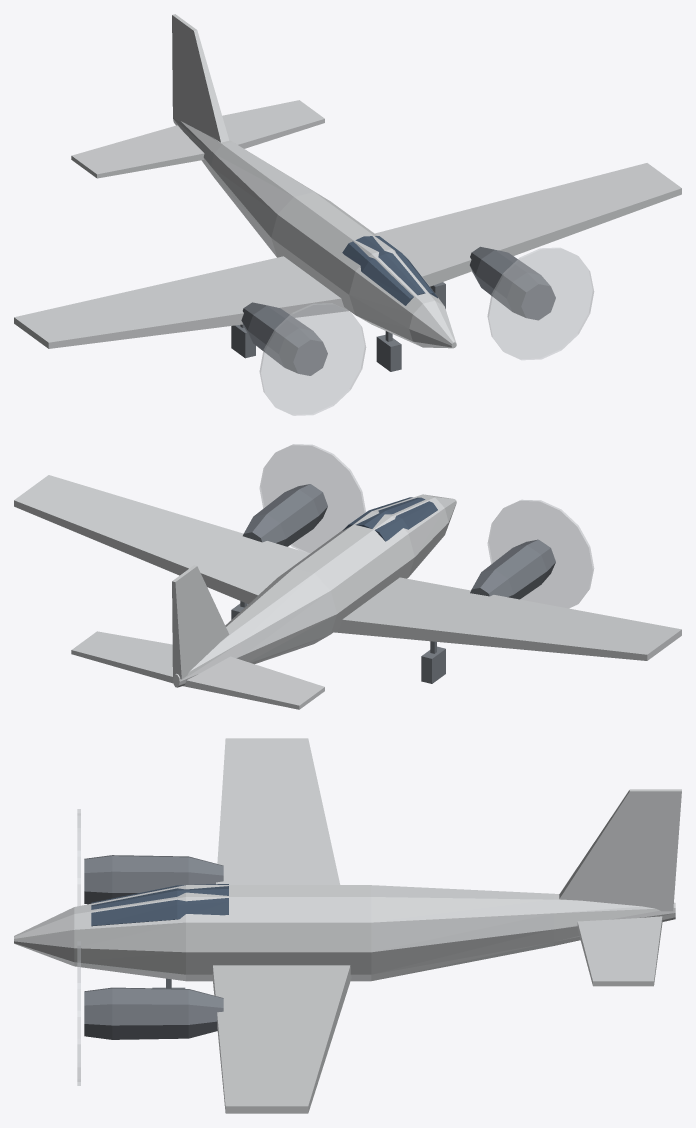
The model's file is ga-twin.glb.
3 views of the same model, one above another, from view 1: azimuth 30°, elevation 25°; view 2: azimuth 150°, elevation 25°; view 3: azimuth 270°, elevation 25° (orthographic). The views are drawn at different scales.
Visible parts, largest first — view 1: ga-twin; view 2: ga-twin; view 3: ga-twin.
Boxes of the visible parts, x1=… form: ga-twin: x1=14, y1=14, x2=681, y2=415; ga-twin: x1=14, y1=444, x2=681, y2=709; ga-twin: x1=14, y1=738, x2=681, y2=1113.
Size of the model in its own units: 1 by 0.292 by 0.7672.
